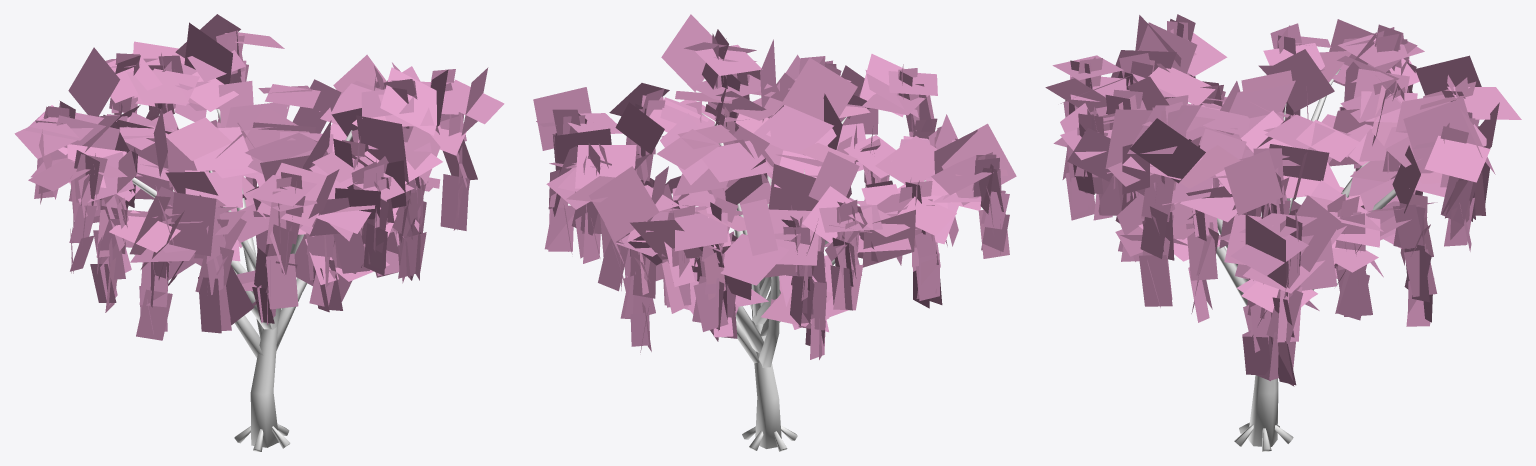
The model's file is SM_Sakura_Weeping_LOD2.fbx.
The picture shows the model from 3 angles, left to right: view 1: azimuth 30°, elevation 25°; view 2: azimuth 150°, elevation 25°; view 3: azimuth 270°, elevation 25°; orthographic projection. The views are drawn at different scales.
Parts seen in each view (by area): view 1: SM_Sakura_Weeping_LOD2; view 2: SM_Sakura_Weeping_LOD2; view 3: SM_Sakura_Weeping_LOD2.
Part boxes in pixels (x1=…): SM_Sakura_Weeping_LOD2: x1=14, y1=14, x2=504, y2=451; SM_Sakura_Weeping_LOD2: x1=533, y1=14, x2=1016, y2=451; SM_Sakura_Weeping_LOD2: x1=1045, y1=14, x2=1521, y2=451.
Bounding box in the file's own units: 9.97 × 8.83 × 7.99.
